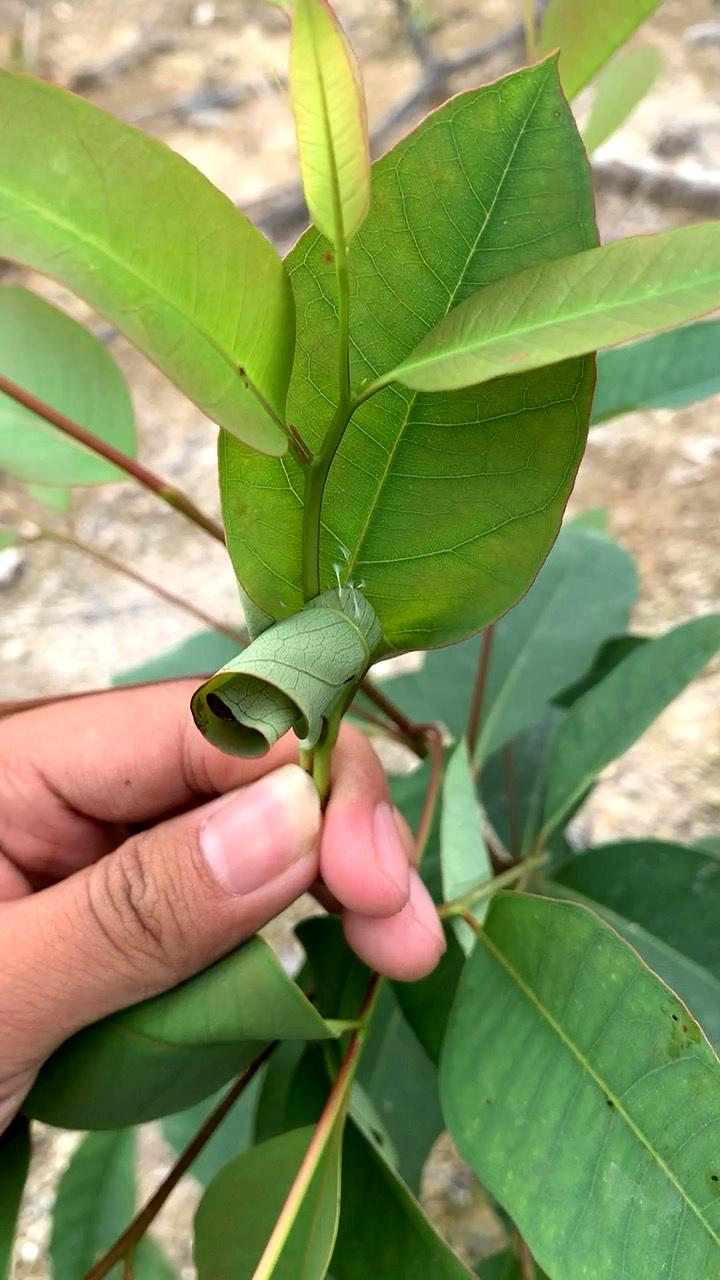Leaf Roller - Leaf: (153, 508, 513, 794)
